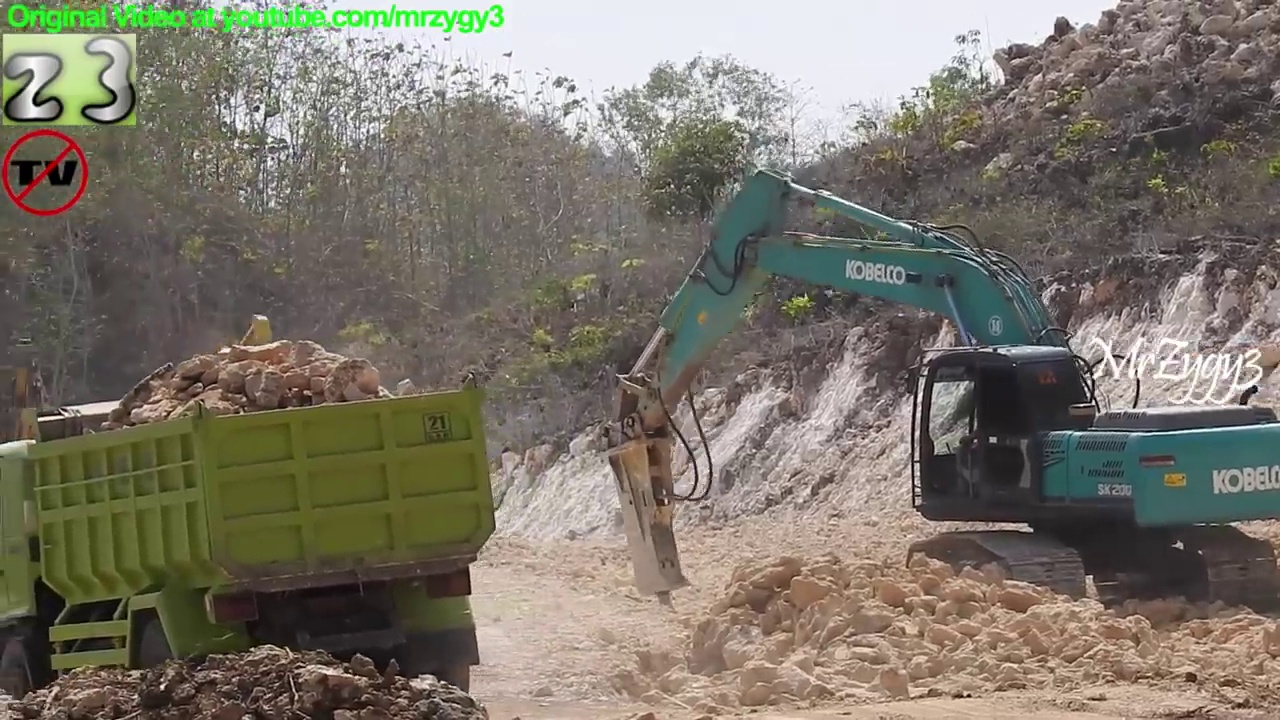excavator: (162, 310, 355, 565), (1, 351, 106, 547)
excavator breaker: (598, 164, 1280, 624)
truck: (1, 336, 496, 720)
